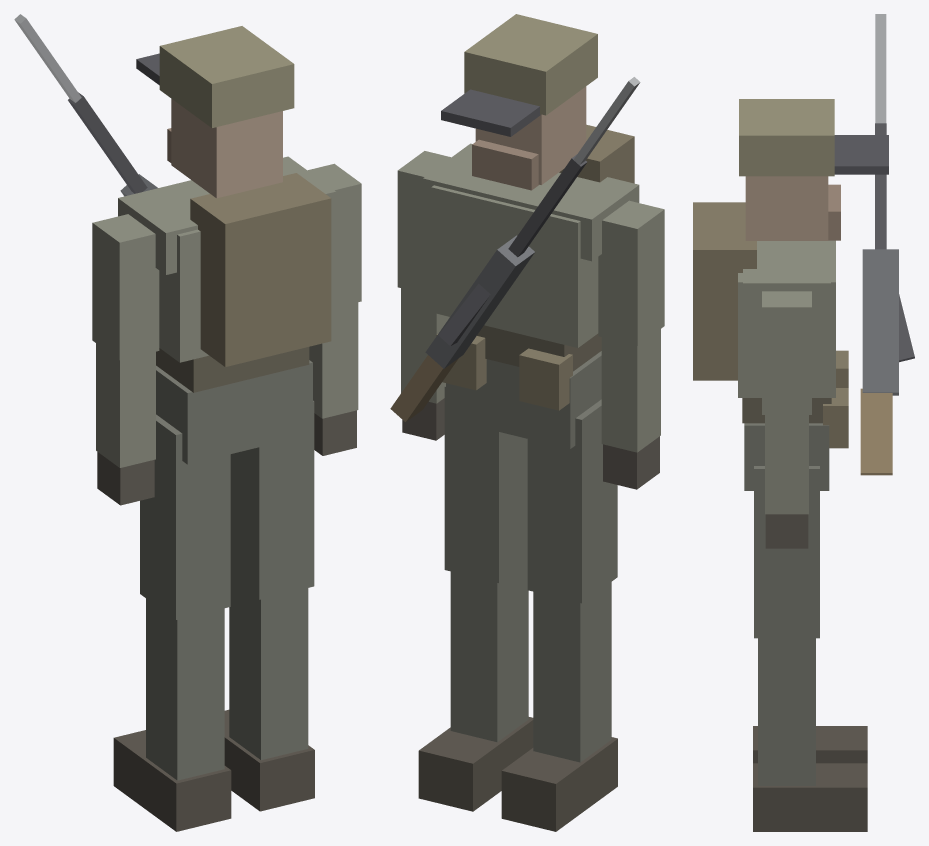
Rendered from chinese_infantry.glb.
3 renders of one model, left to right at view 1: azimuth 30°, elevation 25°; view 2: azimuth 150°, elevation 25°; view 3: azimuth 270°, elevation 25°, orthographic. The views are drawn at different scales.
Parts seen in each view (by area): view 1: Pack, LegLeft, ShinRight, ShinLeft, LegRight, Pelvis, Helmet, ArmLeft, Head, Boot, ForearmLeft, Yoke (+9 smaller); view 2: Body, LegLeft, ShinLeft, ShinRight, LegRight, Helmet, ArmLeft, Pelvis, Boot, Yoke, Boot.001, ForearmLeft (+16 smaller); view 3: Pack, ShinRight, LegRight, Helmet, Boot.001, ArmRight, Head, Rifle, Yoke, ForearmRight, Body, Stock (+11 smaller).
Part boxes in pixels (bbox=[...]): Pack: bbox=[190, 173, 331, 366]; LegLeft: bbox=[140, 414, 230, 619]; ShinRight: bbox=[229, 579, 308, 760]; ShinLeft: bbox=[146, 598, 224, 780]; LegRight: bbox=[230, 400, 314, 599]; Pelvis: bbox=[156, 360, 312, 464]; Helmet: bbox=[159, 26, 294, 127]; ArmLeft: bbox=[92, 214, 159, 360]; Head: bbox=[171, 99, 282, 198]; Boot: bbox=[113, 730, 231, 831]; ForearmLeft: bbox=[96, 343, 155, 467]; Yoke: bbox=[118, 156, 336, 274]; Body: bbox=[431, 185, 598, 347]; LegLeft: bbox=[527, 399, 617, 603]; ShinLeft: bbox=[533, 582, 611, 762]; ShinRight: bbox=[450, 562, 528, 742]; LegRight: bbox=[444, 386, 527, 582]; Helmet: bbox=[464, 14, 597, 115]; ArmLeft: bbox=[598, 200, 664, 345]; Pelvis: bbox=[446, 351, 601, 448]; Boot: bbox=[501, 737, 617, 831]; Yoke: bbox=[423, 143, 639, 261]; Boot.001: bbox=[418, 717, 533, 811]; ForearmLeft: bbox=[601, 329, 660, 452]; Pack: bbox=[693, 202, 756, 380]; ShinRight: bbox=[758, 638, 815, 785]; LegRight: bbox=[754, 466, 819, 638]; Helmet: bbox=[739, 99, 834, 176]; Boot.001: bbox=[753, 763, 867, 831]; ArmRight: bbox=[762, 291, 811, 414]; Head: bbox=[745, 176, 828, 240]; Rifle: bbox=[862, 249, 898, 395]; Yoke: bbox=[743, 240, 830, 321]; ForearmRight: bbox=[765, 415, 808, 514]; Body: bbox=[738, 240, 835, 397]; Stock: bbox=[860, 388, 892, 475].
Size of the model in its own units: 0.6955 by 1.87 by 0.5216.
